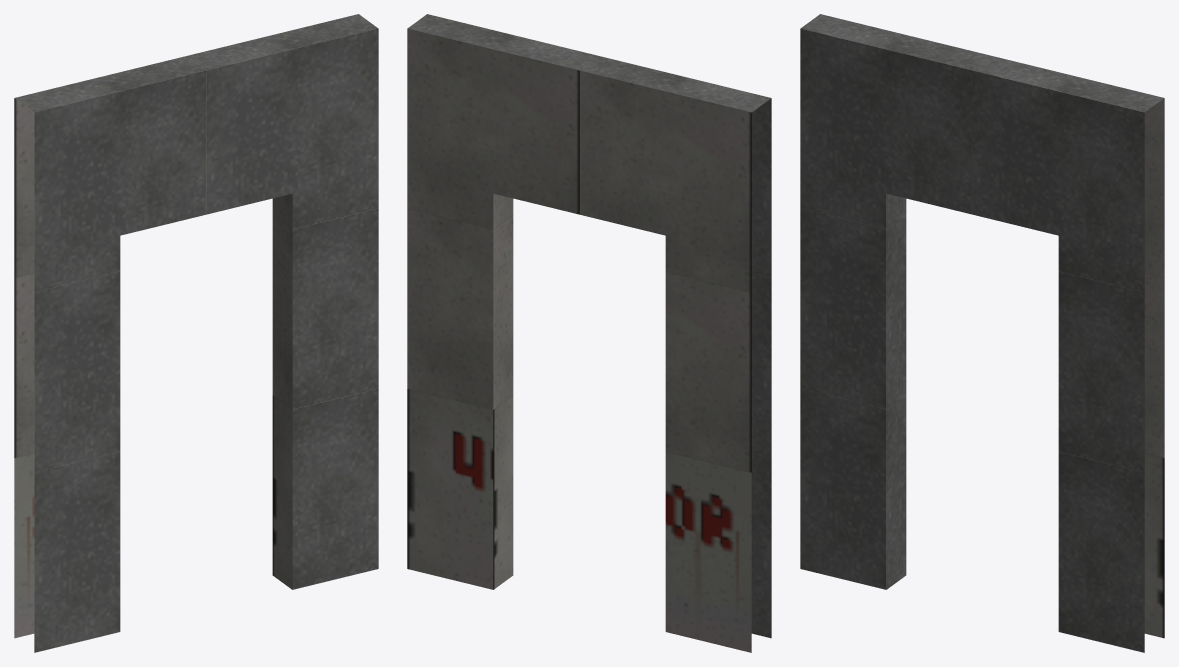
File: wall_doorway_brick.fbx
3 views of the same model, side by side, from view 1: azimuth 30°, elevation 25°; view 2: azimuth 150°, elevation 25°; view 3: azimuth 330°, elevation 25° (orthographic).
Visible parts, largest first — view 1: wall_doorway_brick; view 2: wall_doorway_brick; view 3: wall_doorway_brick.
Part boxes in pixels (x1,y1,x2,y2): wall_doorway_brick: (14,14,378,652); wall_doorway_brick: (407,14,771,652); wall_doorway_brick: (800,14,1164,652).
Bounding box in the file's own units: 2 × 3 × 0.2.
